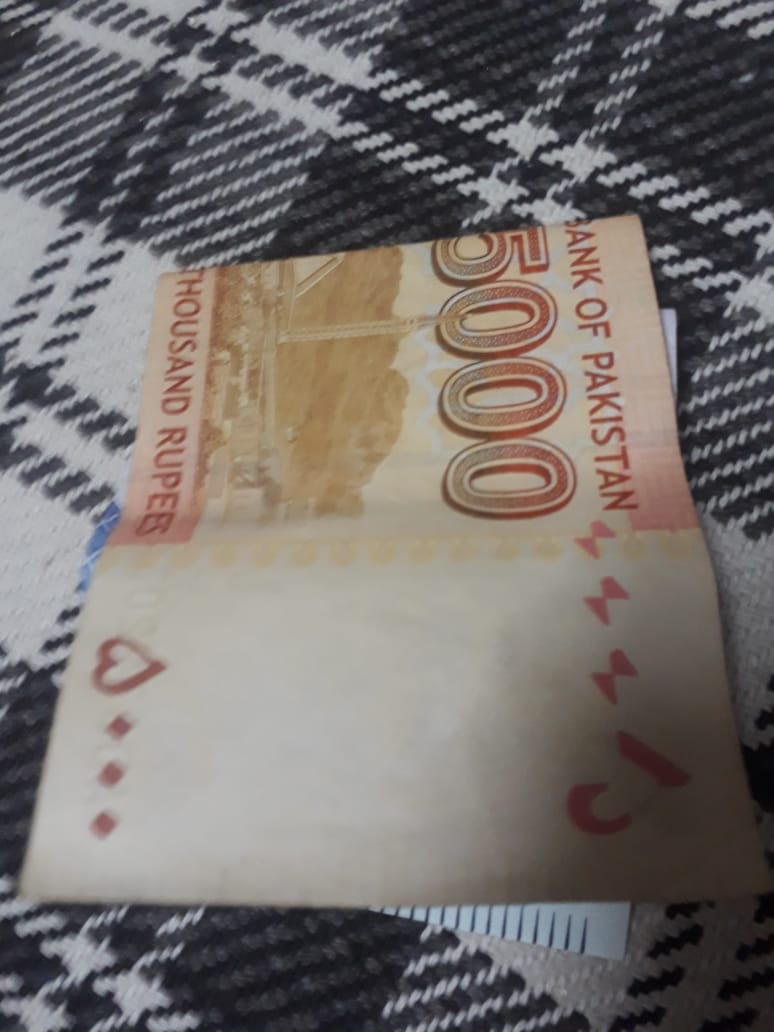5000 rupee: (12, 189, 721, 975)
